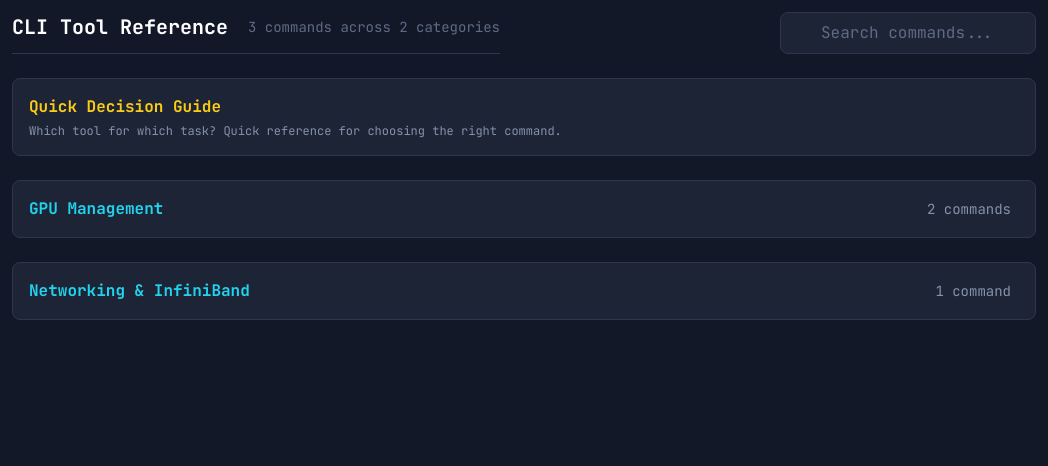
Test: CommandsReference › shows Quick Decision Guide that expands on click
The image size is (1048, 466).
Expected: the heading "Quick Decision Guide" is shown, top-left (29, 96), bottom-right (221, 117)
# Expand the guide
Click the button "Quick Decision Guide" at {"x": 125, "y": 106}, box top-left (13, 79), bottom-right (1035, 155)
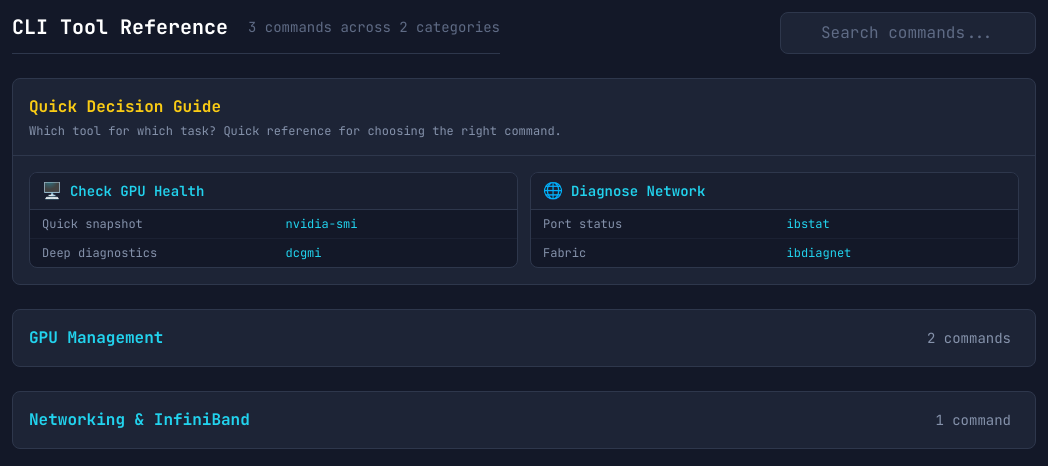
Expected: the heading "Check GPU Health" is shown, top-left (70, 181), bottom-right (204, 201)
Expected: the heading "Diagnose Network" is shown, top-left (571, 181), bottom-right (705, 201)
Expected: the text "Quick snapshot" is shown, top-left (30, 210), bottom-right (274, 238)
